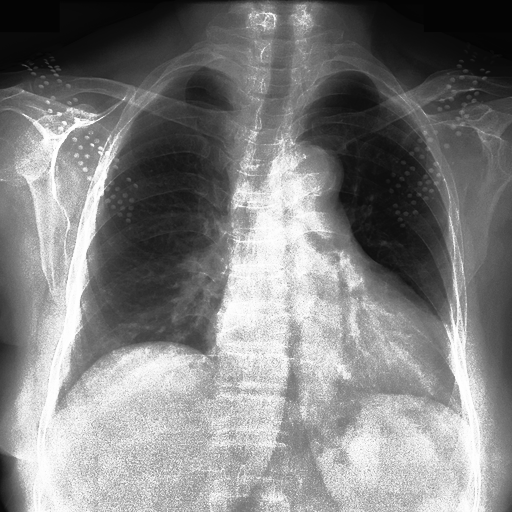Consolidation: (273, 145, 345, 203)
Nodule/Mass: (191, 309, 446, 391)
